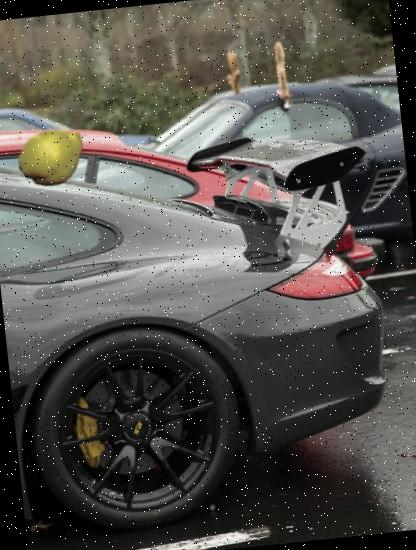Quince: (15, 118, 91, 194)
